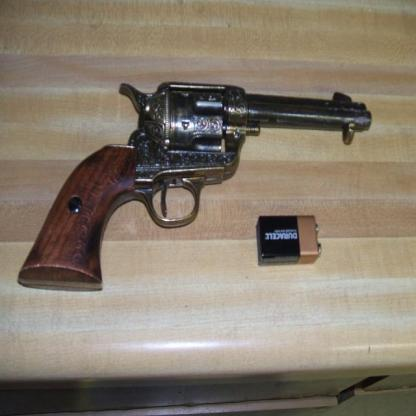weapon: (17, 78, 373, 293)
